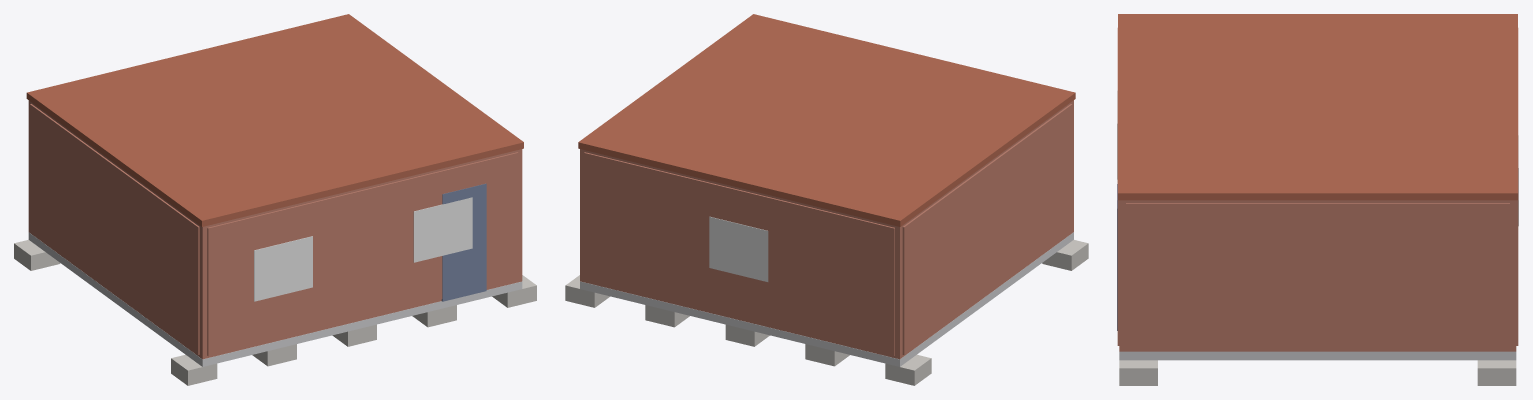
The model's file is Studio-20-Base-OxidisedRed-LOD3.glb.
3 views of the same model, side by side, from view 1: azimuth 30°, elevation 25°; view 2: azimuth 150°, elevation 25°; view 3: azimuth 270°, elevation 25° (orthographic). The views are drawn at different scales.
Visible parts, largest first — view 1: RoofMain, ExteriorPanelsStandard, WindowsStandard, FoundationBlocks, ExteriorShell, BaseFrame, EntryDoor; view 2: ExteriorPanelsStandard, RoofMain, FoundationBlocks, BaseFrame, ExteriorShell, WindowsStandard; view 3: RoofMain, ExteriorPanelsStandard, ExteriorShell, BaseFrame, FoundationBlocks.
Boxes of the visible parts, box(x1,y1,x2,y2) form: RoofMain: box(26, 14, 523, 226); ExteriorPanelsStandard: box(30, 104, 518, 355); WindowsStandard: box(254, 197, 472, 301); FoundationBlocks: box(14, 240, 536, 385); ExteriorShell: box(28, 100, 522, 359); BaseFrame: box(28, 232, 522, 366); EntryDoor: box(441, 183, 486, 301); ExteriorPanelsStandard: box(584, 104, 1072, 355); RoofMain: box(578, 14, 1075, 226); FoundationBlocks: box(565, 240, 1088, 385); BaseFrame: box(580, 232, 1073, 366); ExteriorShell: box(580, 100, 1073, 359); WindowsStandard: box(709, 216, 768, 281); RoofMain: box(1118, 14, 1517, 200); ExteriorPanelsStandard: box(1117, 28, 1518, 349); ExteriorShell: box(1119, 200, 1516, 351); BaseFrame: box(1119, 351, 1516, 360); FoundationBlocks: box(1119, 360, 1516, 385).
Size of the model in its own units: 7.14 by 3.17 by 6.24.
